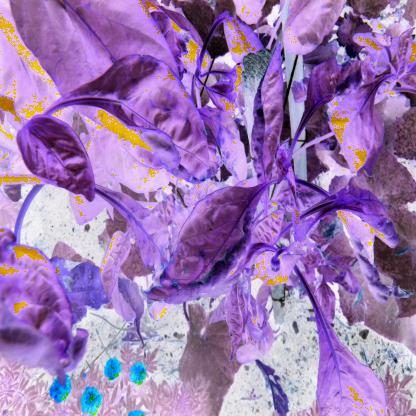Bell_pepper leaf: (71, 58, 222, 191), (312, 318, 386, 416)
